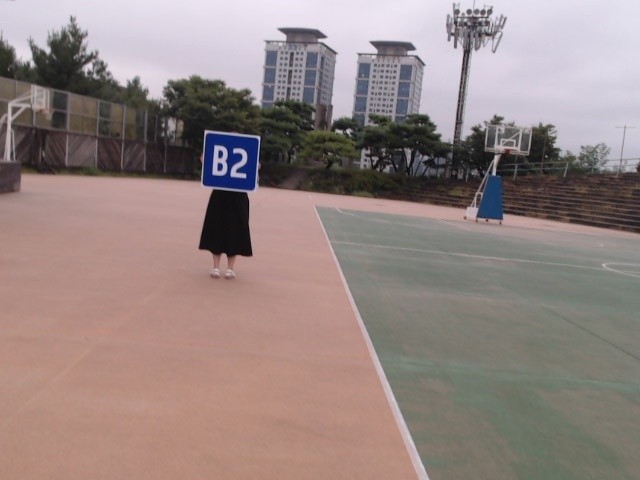delivery_b2: (201, 133, 260, 191)
